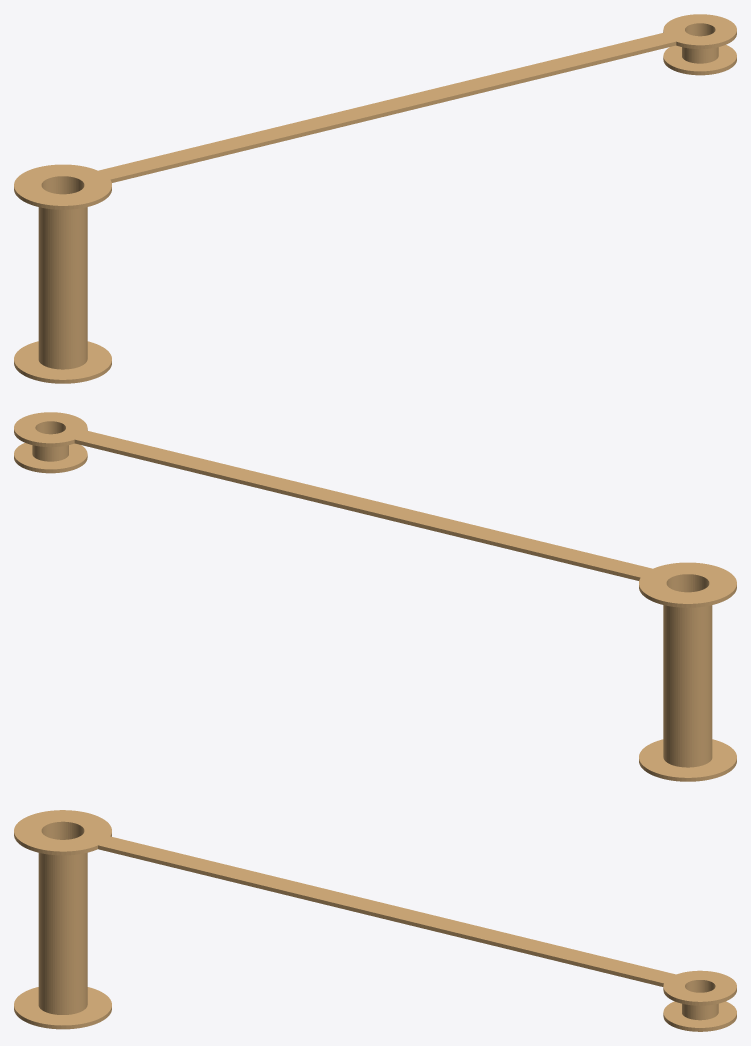
File: board.glb
3 views of the same model, one above another, from view 1: azimuth 30°, elevation 25°; view 2: azimuth 150°, elevation 25°; view 3: azimuth 330°, elevation 25° (orthographic).
Visible parts, largest first — view 1: Unified_Net_2_Island_5, Bare_Via_Tube_0, Unified_Net_1_Island_2, Unified_Net_1_Island_6, Unified_Net_1_Island_3, Unified_Net_1_Island_4, Bare_Via_Tube_1; view 2: Unified_Net_2_Island_5, Bare_Via_Tube_0, Unified_Net_1_Island_2, Unified_Net_1_Island_6, Unified_Net_1_Island_3, Unified_Net_1_Island_4, Bare_Via_Tube_1; view 3: Unified_Net_2_Island_5, Bare_Via_Tube_0, Unified_Net_1_Island_2, Unified_Net_1_Island_6, Unified_Net_1_Island_3, Unified_Net_1_Island_4, Bare_Via_Tube_1.
Part boxes in pixels (bbox=[...]): Unified_Net_2_Island_5: bbox=[78, 28, 693, 184]; Bare_Via_Tube_0: bbox=[38, 178, 87, 369]; Unified_Net_1_Island_2: bbox=[14, 164, 111, 209]; Unified_Net_1_Island_6: bbox=[14, 341, 111, 383]; Unified_Net_1_Island_3: bbox=[663, 14, 736, 49]; Unified_Net_1_Island_4: bbox=[663, 45, 736, 75]; Bare_Via_Tube_1: bbox=[682, 24, 718, 63]; Unified_Net_2_Island_5: bbox=[58, 427, 674, 582]; Bare_Via_Tube_0: bbox=[663, 575, 712, 767]; Unified_Net_1_Island_2: bbox=[639, 562, 736, 607]; Unified_Net_1_Island_6: bbox=[639, 739, 736, 781]; Unified_Net_1_Island_3: bbox=[14, 412, 87, 447]; Unified_Net_1_Island_4: bbox=[14, 443, 87, 473]; Bare_Via_Tube_1: bbox=[32, 421, 68, 461]; Unified_Net_2_Island_5: bbox=[77, 831, 691, 986]; Bare_Via_Tube_0: bbox=[38, 823, 87, 1014]; Unified_Net_1_Island_2: bbox=[14, 810, 111, 855]; Unified_Net_1_Island_6: bbox=[14, 987, 111, 1029]; Unified_Net_1_Island_3: bbox=[663, 970, 736, 1005]; Unified_Net_1_Island_4: bbox=[663, 1001, 736, 1031]; Bare_Via_Tube_1: bbox=[682, 980, 718, 1020].
Bounding box in the file's own units: 0.0067 × 0.0016 × 0.0008.
